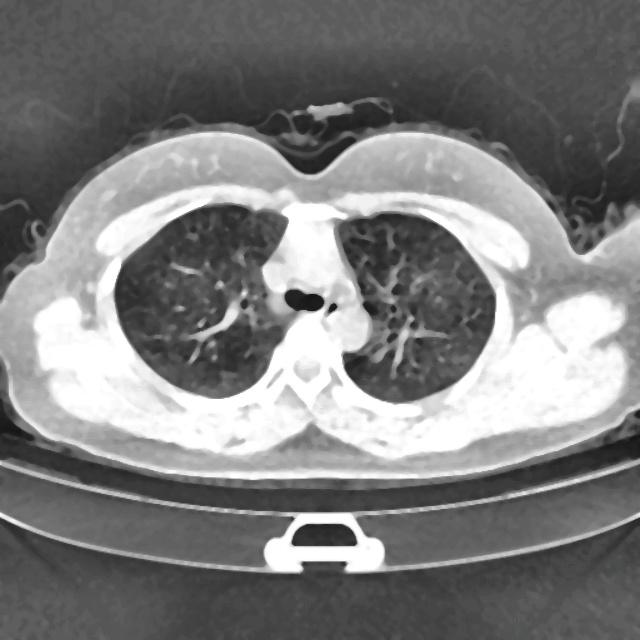covid: (1, 99, 638, 487)
